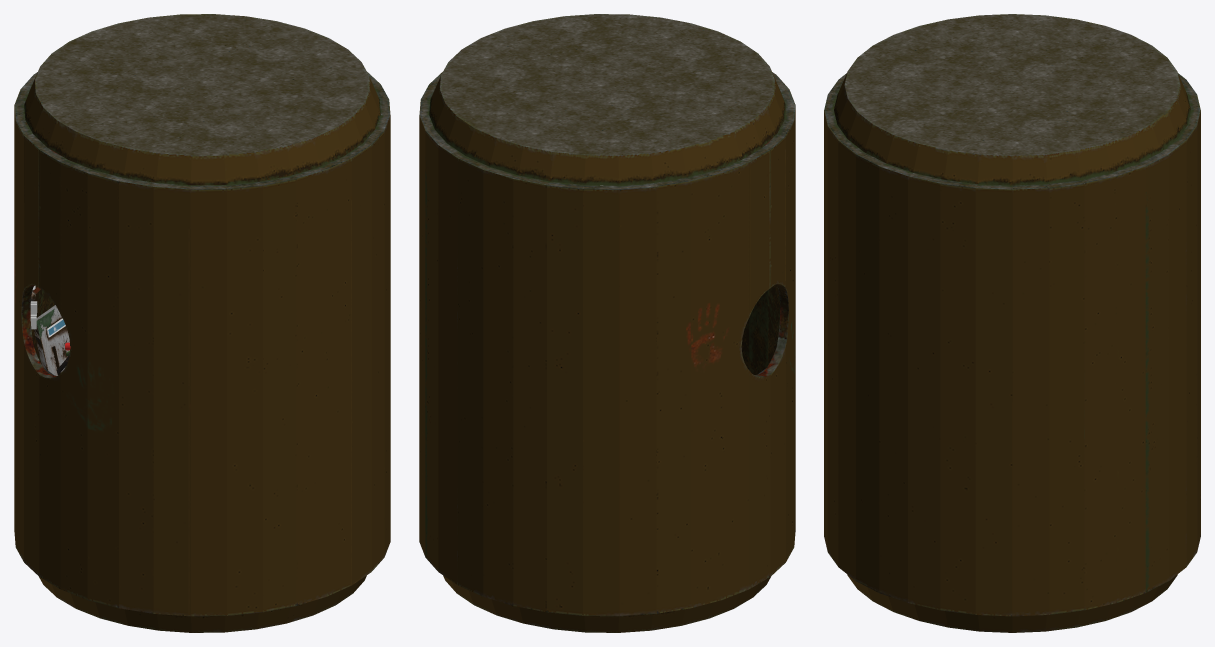
The model's file is Submarine_Tester.fbx.
3 renders of one model, left to right at view 1: azimuth 30°, elevation 25°; view 2: azimuth 150°, elevation 25°; view 3: azimuth 270°, elevation 25°, orthographic.
Parts seen in each view (by area): view 1: Submarine_Body.001, Button_Puzzle_Body; view 2: Submarine_Body.001; view 3: Submarine_Body.001.
Part boxes in pixels (<box>): Submarine_Body.001: <box>14,14,390,632</box>; Button_Puzzle_Body: <box>33,305,69,375</box>; Submarine_Body.001: <box>419,14,795,632</box>; Submarine_Body.001: <box>824,14,1200,632</box>.
Bounding box in the file's own units: 200 × 279 × 200.
